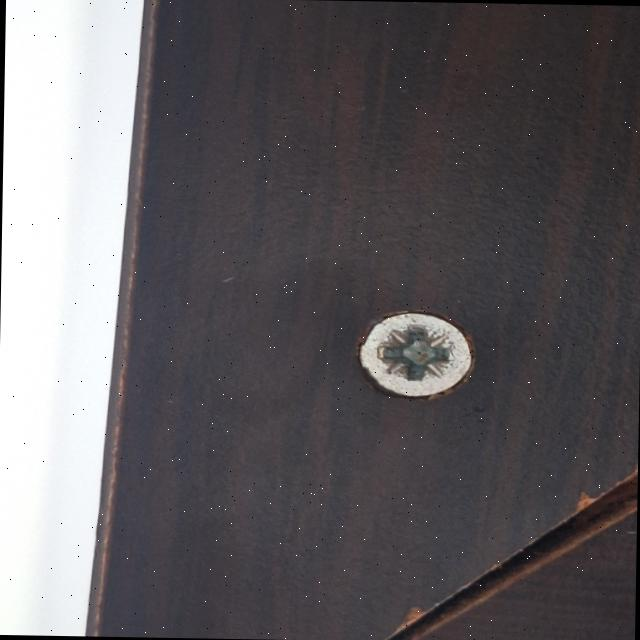Pozidriv: (338, 306, 477, 409)
